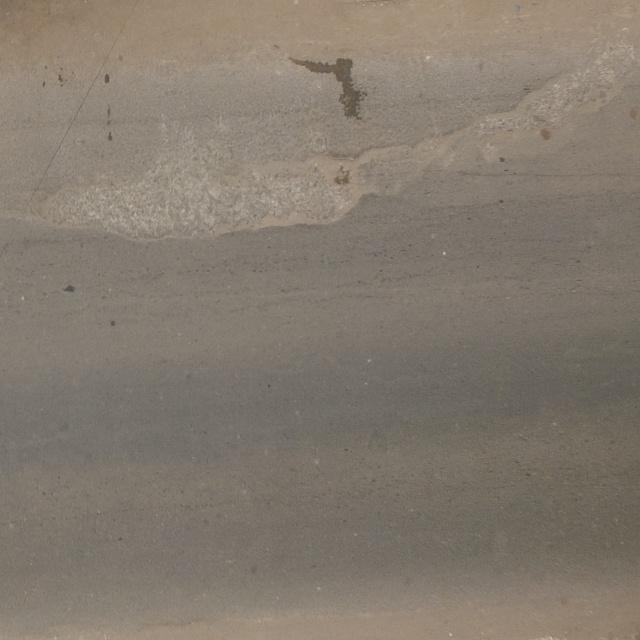GRIETA: (40, 38, 634, 237)
